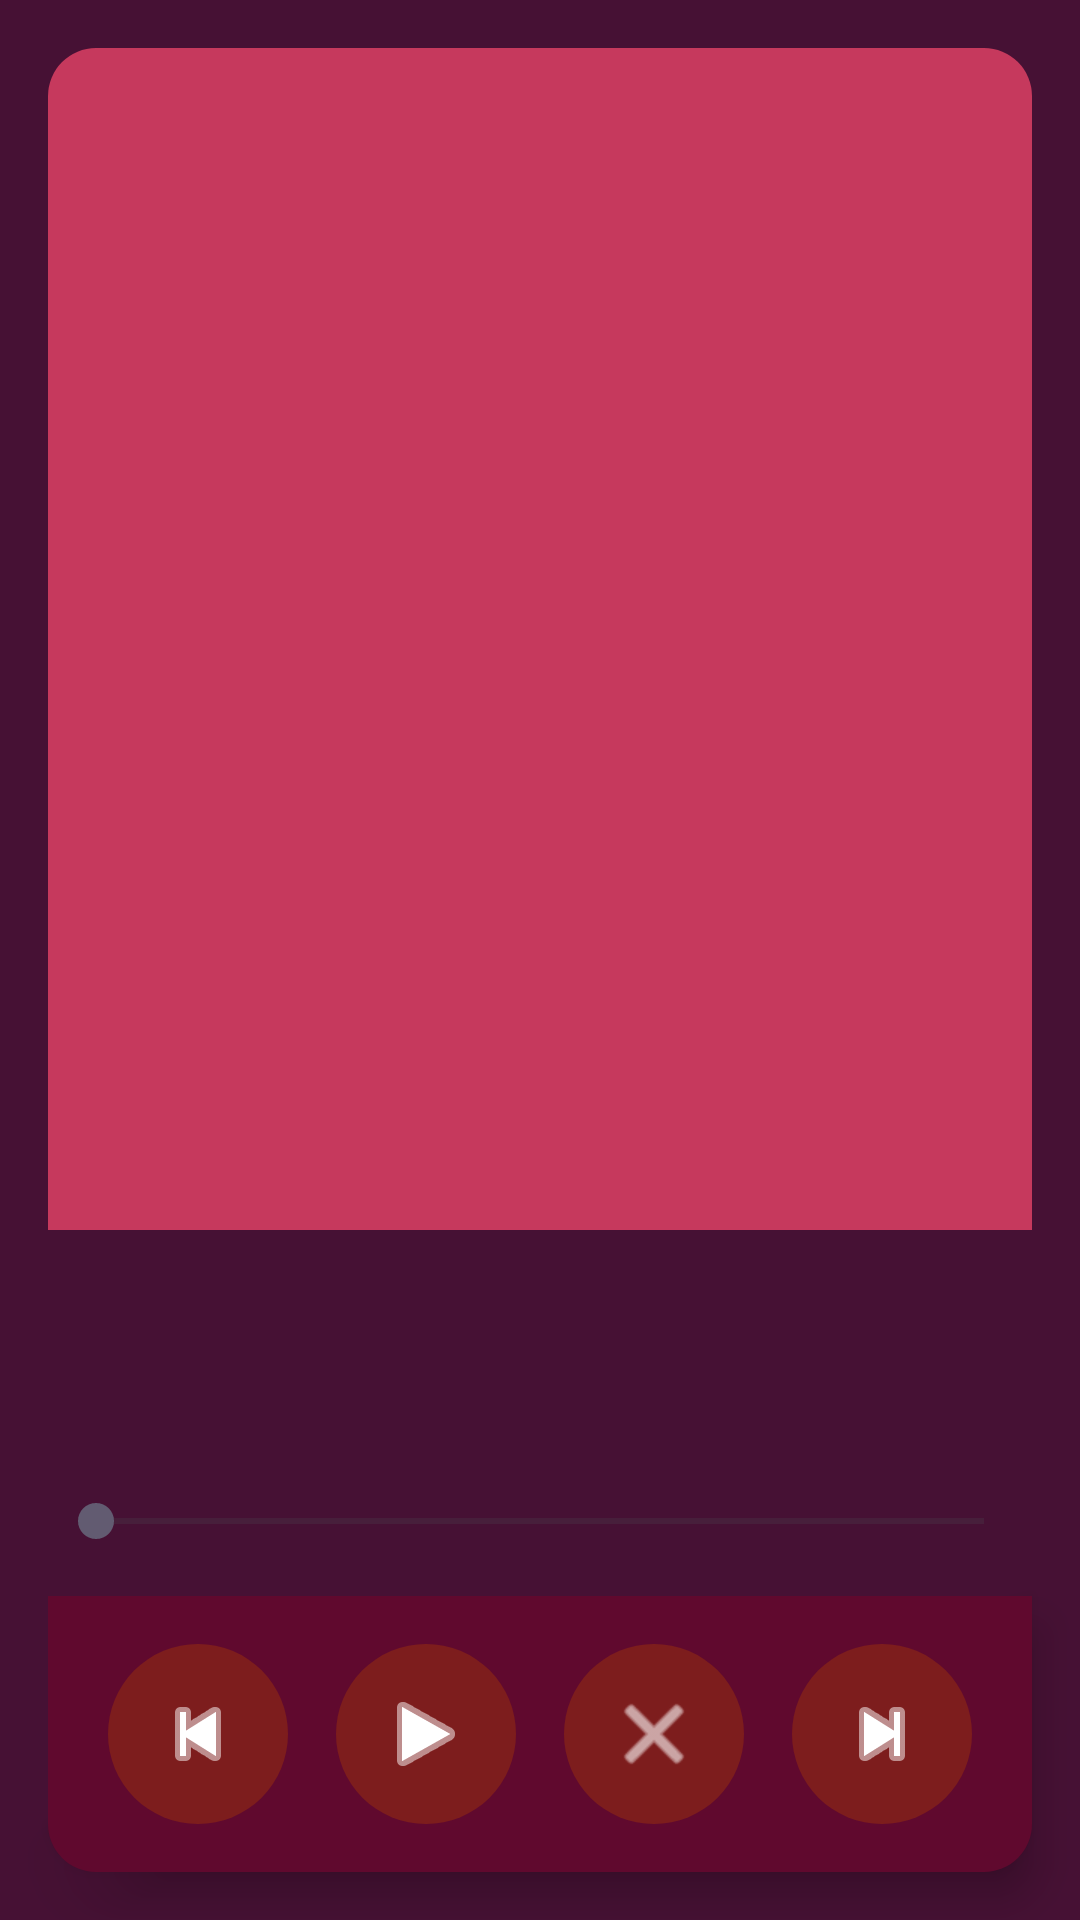

Where icons sit on this 1080 × 1920 app screen, as (x1, y1, x2, y2):
Воспроизвести: (336, 1644, 516, 1824)
Остановить: (564, 1644, 744, 1824)
предыдущий: (108, 1644, 288, 1824)
следующий: (792, 1644, 972, 1824)
